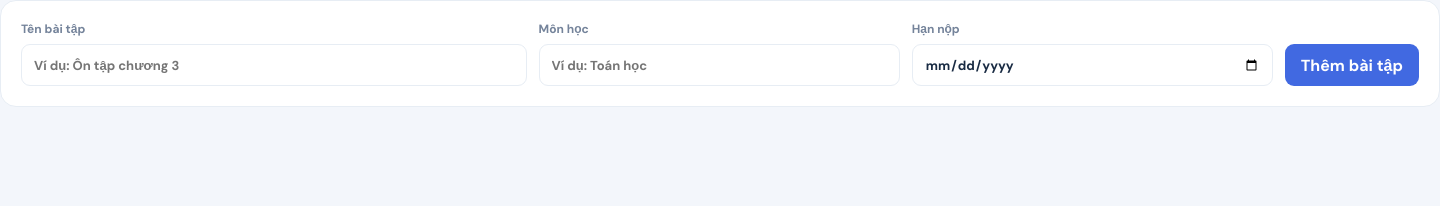
Test case: AssignmentForm › validates required fields before submitting
What coordinates should you click on to do the following:
click the button "Thêm bài tập"
I would click on:
 (1352, 65)
Its box is [1285,44,1419,86].
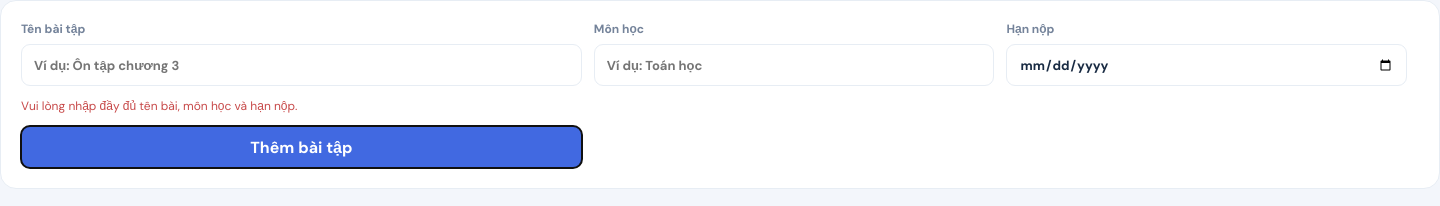
Check: the message shows "Vui lòng nhập đầy đủ", box [21,98,297,114]
